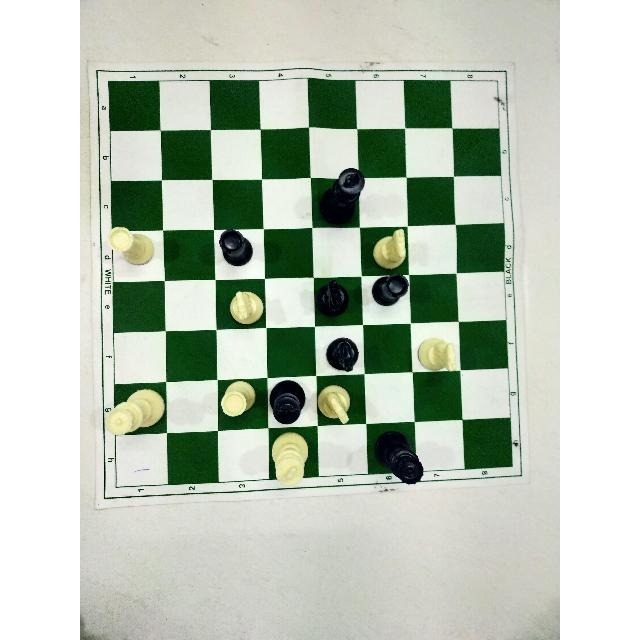black-king: (320, 167, 366, 225), (267, 378, 306, 427)
black-knight: (321, 335, 357, 370), (316, 279, 348, 318)
black-queen: (369, 428, 424, 485)
black-rook: (213, 224, 254, 269), (371, 271, 408, 307)
white-king: (268, 429, 312, 487)
white-knight: (367, 228, 409, 272), (415, 337, 459, 379), (228, 285, 268, 329), (316, 380, 351, 428)
white-queen: (104, 383, 166, 438)
white-rook: (105, 226, 154, 272), (219, 381, 253, 423)
